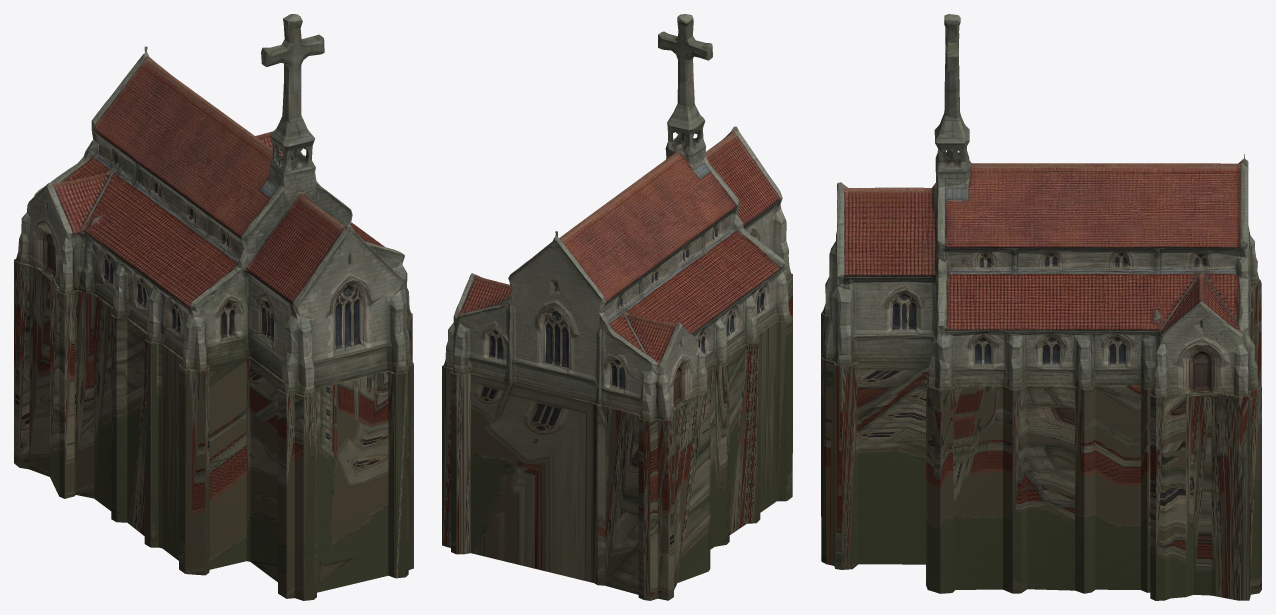
The model's file is church.glb.
3 views of the same model, side by side, from view 1: azimuth 30°, elevation 25°; view 2: azimuth 150°, elevation 25°; view 3: azimuth 270°, elevation 25° (orthographic). The views are drawn at different scales.
Parts seen in each view (by area): view 1: church_export; view 2: church_export; view 3: church_export.
Part boxes in pixels (<box>): church_export: <box>14,14,413,600</box>; church_export: <box>442,14,792,600</box>; church_export: <box>821,14,1261,600</box>.
Size of the model in its own units: 24.31 by 47.17 by 36.
2 materials, 2 textured.
